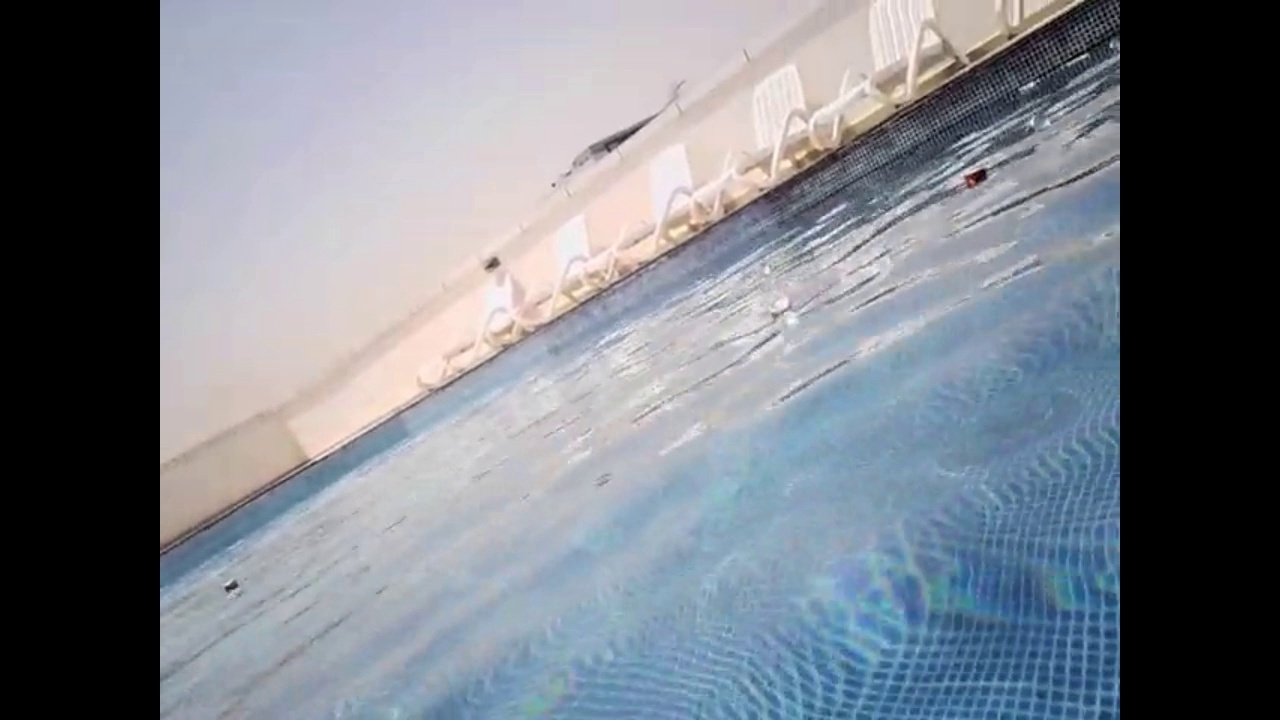debris: (759, 283, 795, 323), (955, 165, 994, 191), (216, 574, 245, 600)
